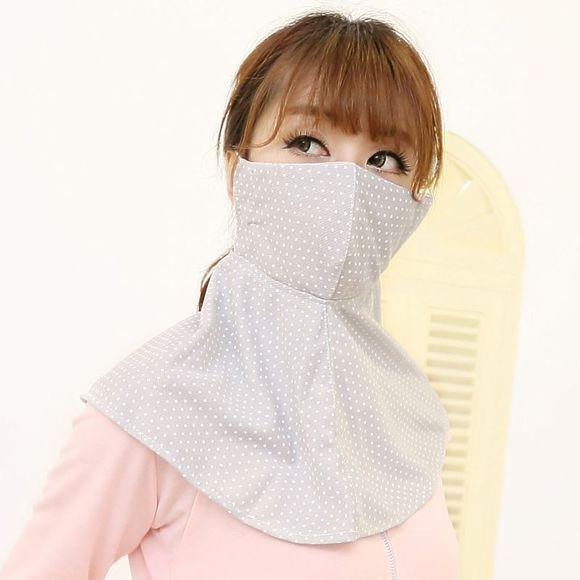OK: (241, 101, 438, 298)
